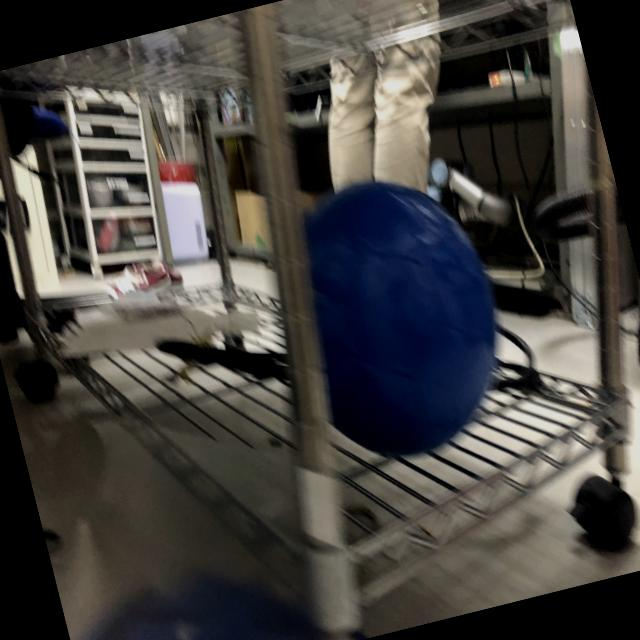blue_ball: (264, 150, 530, 472)
